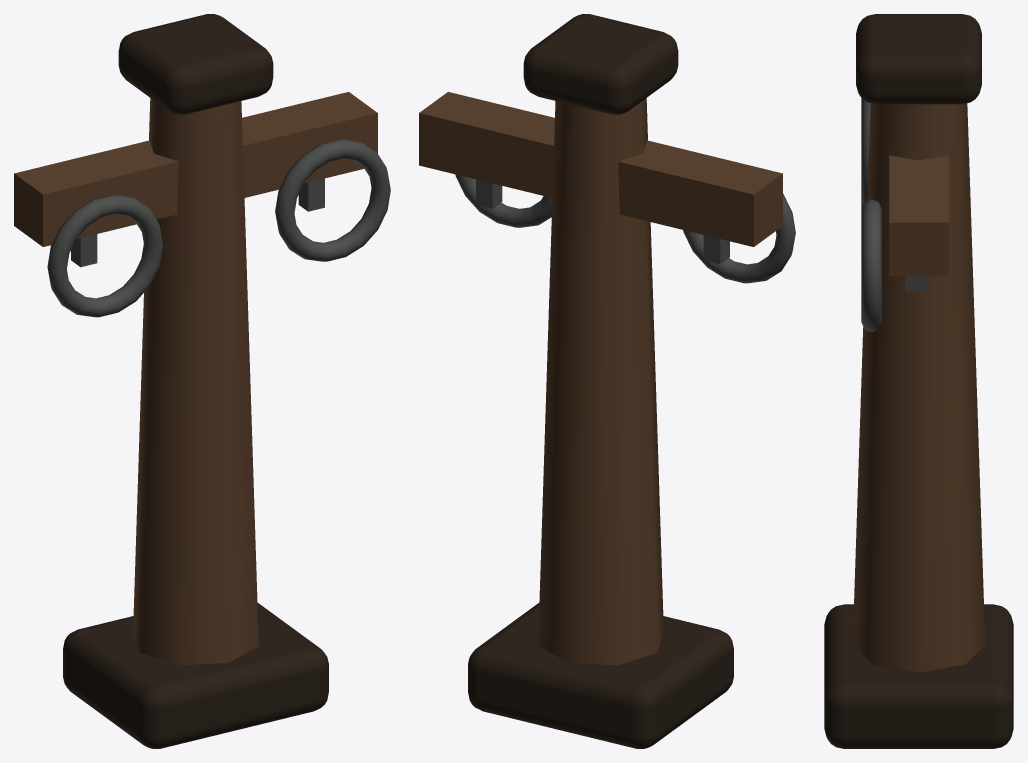
The model's file is sk_hitching_post.glb.
3 views of the same model, side by side, from view 1: azimuth 30°, elevation 25°; view 2: azimuth 150°, elevation 25°; view 3: azimuth 270°, elevation 25° (orthographic).
Parts seen in each view (by area): view 1: wood, metal; view 2: wood, metal; view 3: wood, metal.
Part boxes in pixels (x1=…): wood: x1=14, y1=14, x2=377, y2=748; metal: x1=47, y1=139, x2=390, y2=317; wood: x1=419, y1=14, x2=782, y2=748; metal: x1=455, y1=174, x2=795, y2=283; wood: x1=824, y1=14, x2=1013, y2=748; metal: x1=861, y1=98, x2=924, y2=332.
Size of the model in its own units: 0.51 by 0.945 by 0.24.
